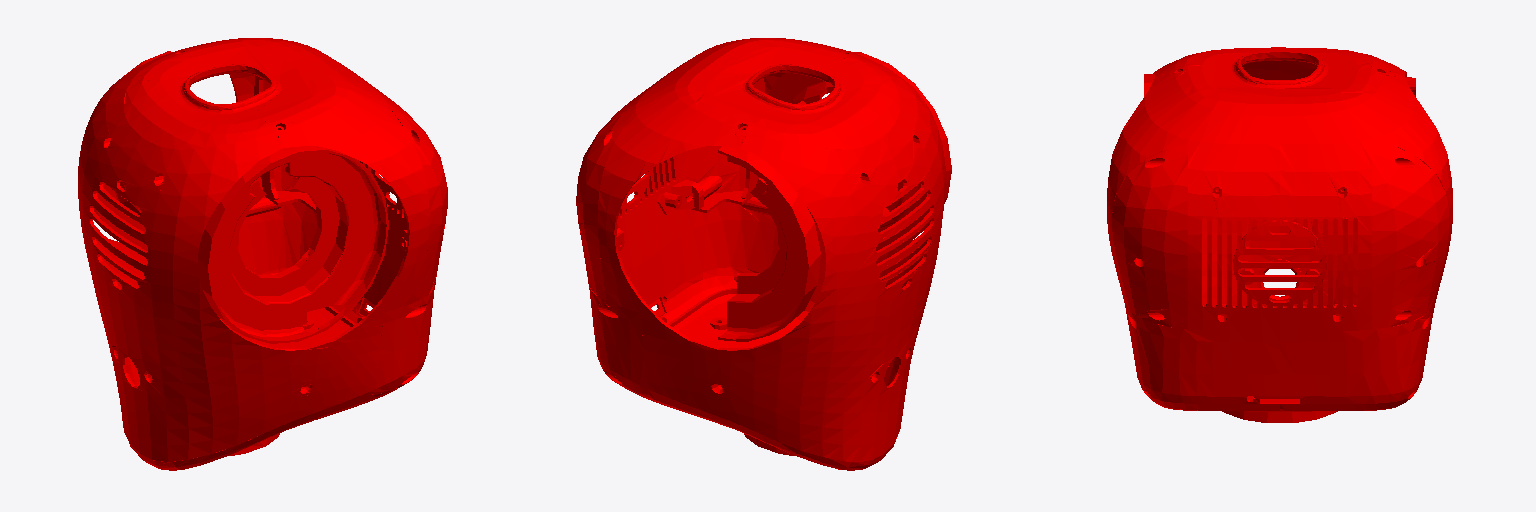
File: torso_red.obj
3 views of the same model, side by side, from view 1: azimuth 30°, elevation 25°; view 2: azimuth 150°, elevation 25°; view 3: azimuth 270°, elevation 25° (orthographic).
Visible parts, largest first — view 1: torso_green; view 2: torso_green; view 3: torso_green.
Part boxes in pixels (x1,y1,x2,y2): torso_green: (78, 38, 447, 470); torso_green: (576, 38, 951, 470); torso_green: (1107, 47, 1452, 422).
Size of the model in its own units: 5.33 by 6.45 by 5.63.